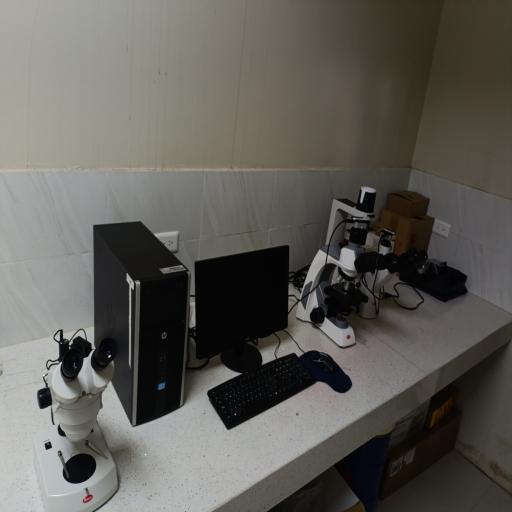Microscopio_estereo: (24, 312, 124, 512)
